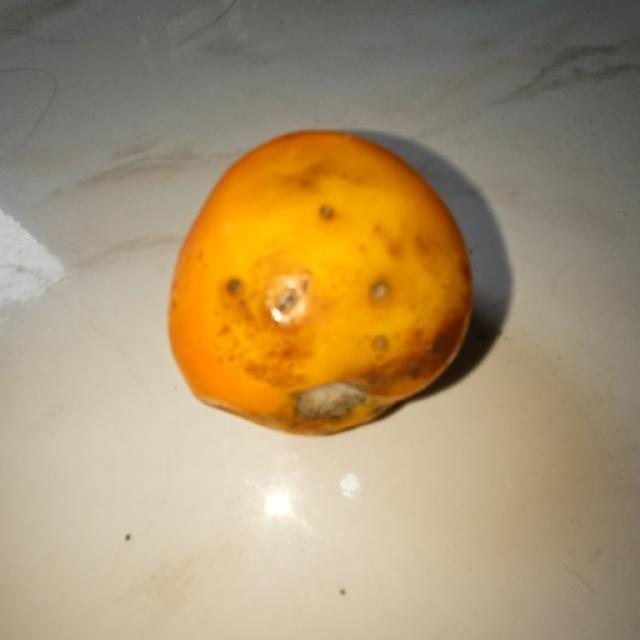Red: (166, 127, 474, 436)
